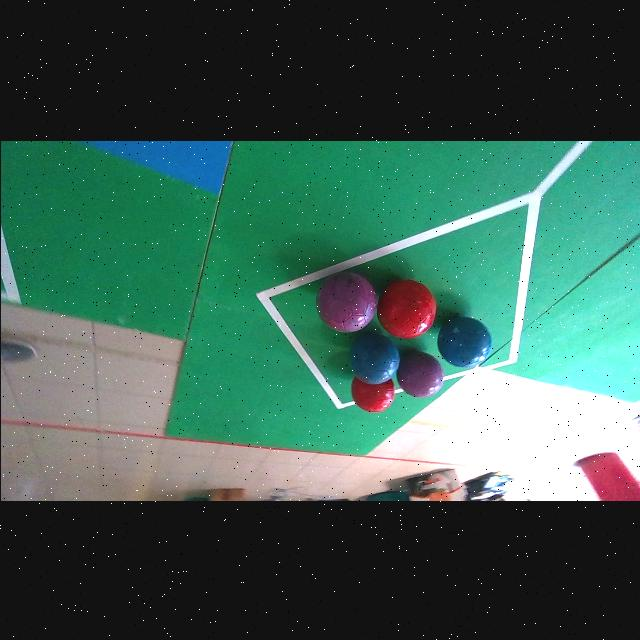B: (436, 315, 491, 365), (349, 333, 398, 383)
P: (315, 271, 377, 331), (396, 349, 442, 397)
R: (377, 279, 436, 338), (351, 377, 395, 411)
